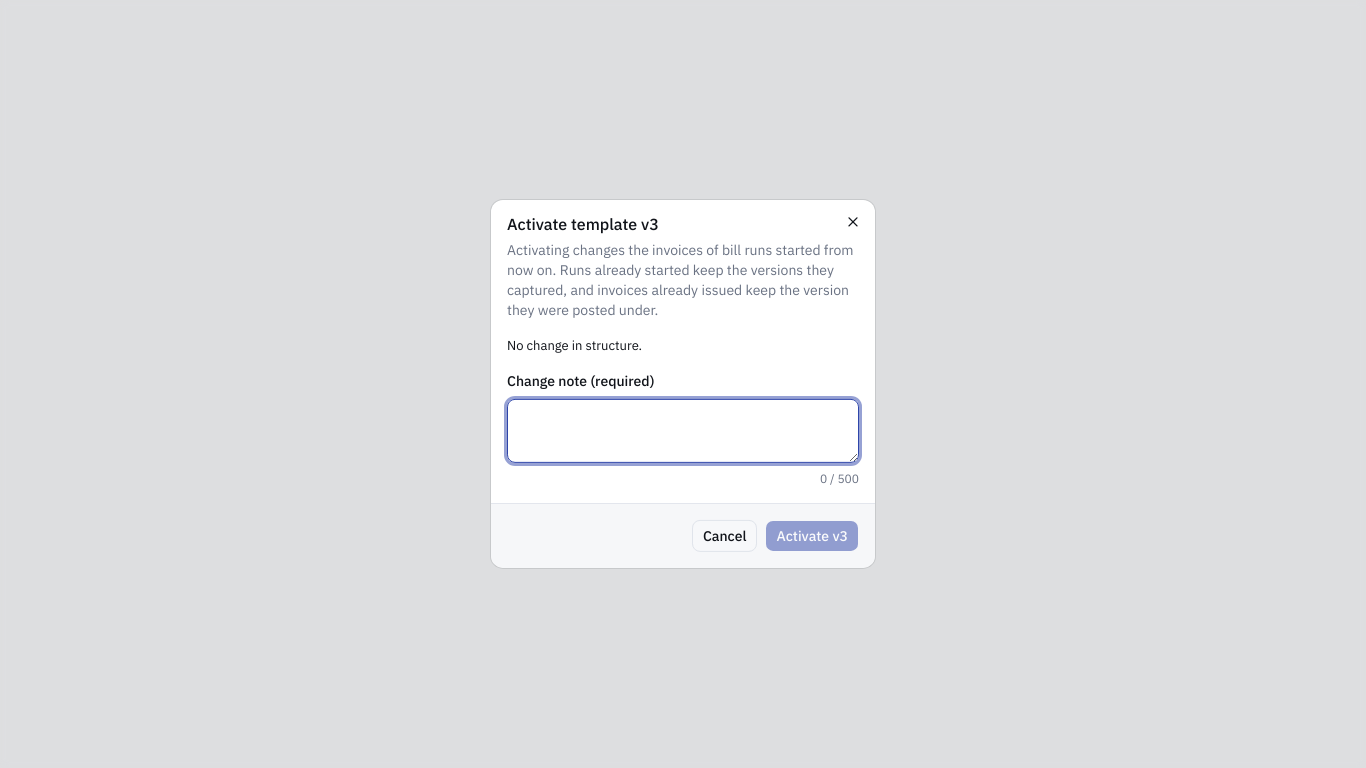
Test: ActivateVersionDialog › counts the note against the 500 limit
Step 1. Type "abcde" into the text box labelled "Change note (required)" → (683, 431), box [507, 399, 859, 463]
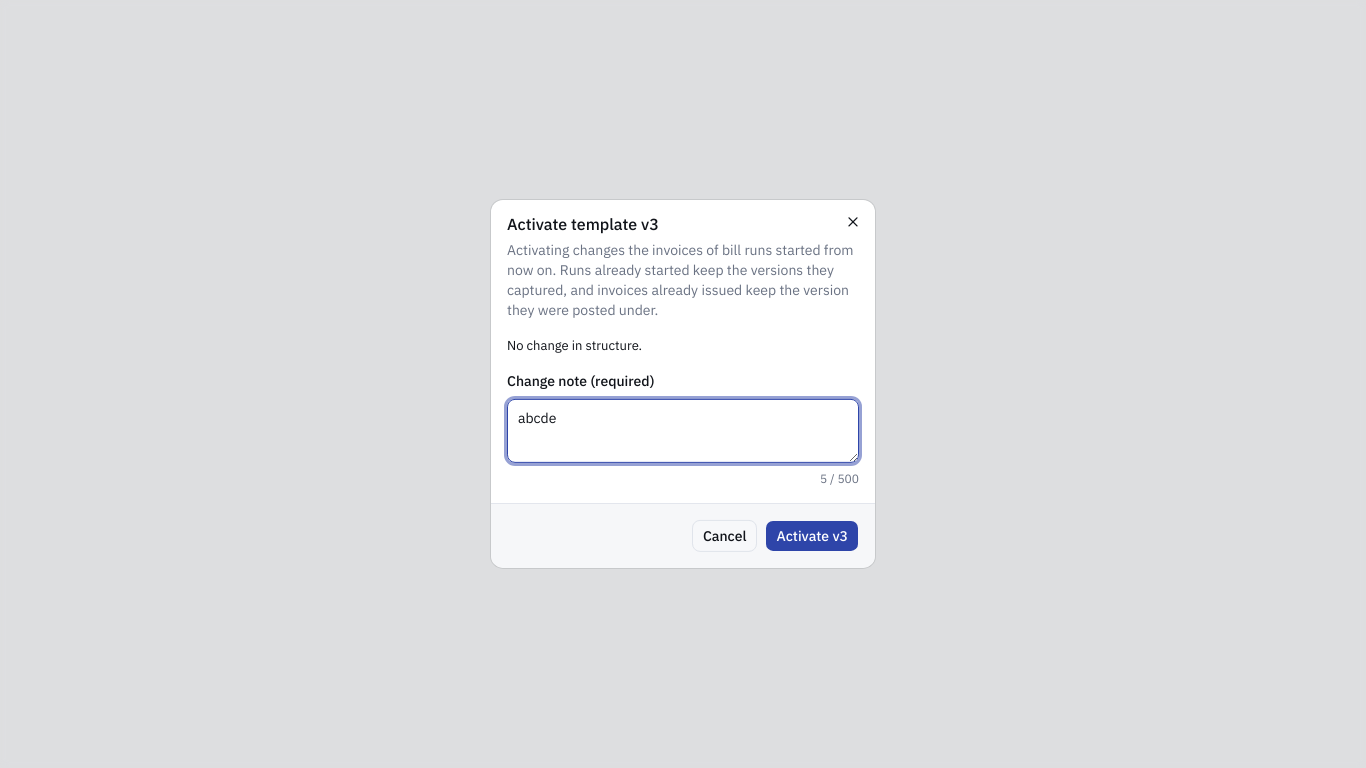
Now the text "5 / 500" is shown, box [820, 471, 859, 486]
